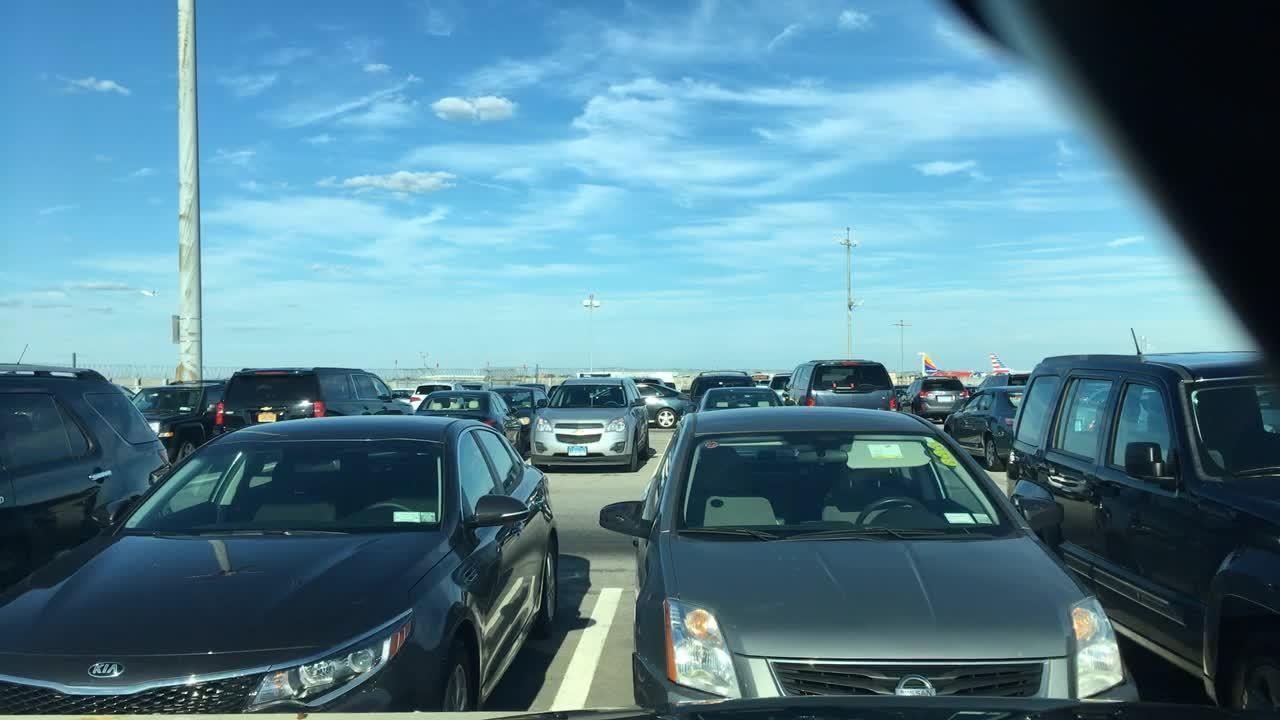kia: (76, 643, 136, 687)
